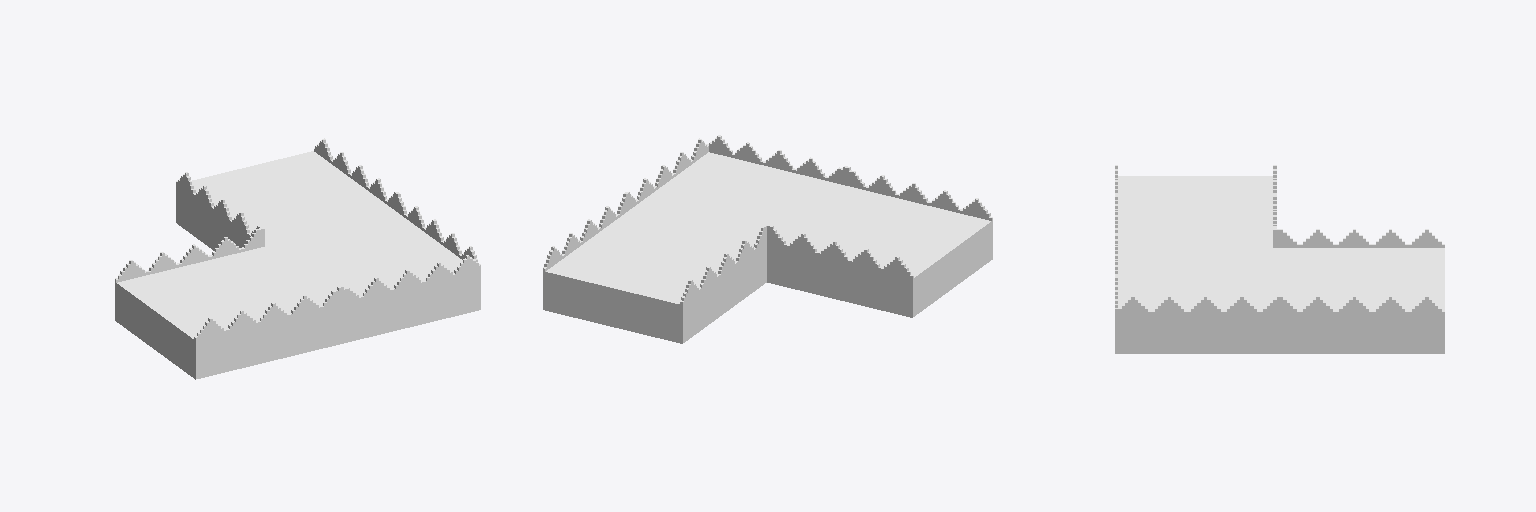
Rendered from pathL2.obj.
The picture shows the model from 3 angles: view 1: azimuth 30°, elevation 25°; view 2: azimuth 150°, elevation 25°; view 3: azimuth 270°, elevation 25°; orthographic projection.
Parts seen in each view (by area): view 1: object 1; view 2: object 1; view 3: object 1.
Part boxes in pixels (bbox=[...]): object 1: bbox=[115, 138, 480, 379]; object 1: bbox=[543, 135, 992, 343]; object 1: bbox=[1115, 165, 1444, 353].
Bounding box in the file's own units: 10 × 1.9 × 10.